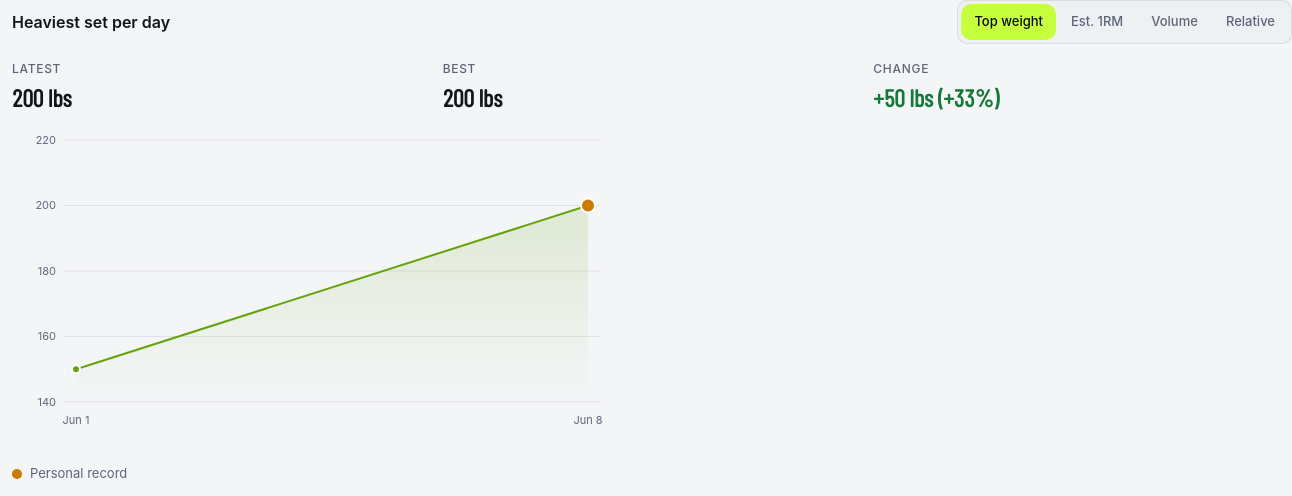
Scenario: relative strength › is offered once body weight is known, as a multiple of body weight
Click the button "Relative". click: (1250, 22)
box: top-left (1213, 4), bottom-right (1288, 40)
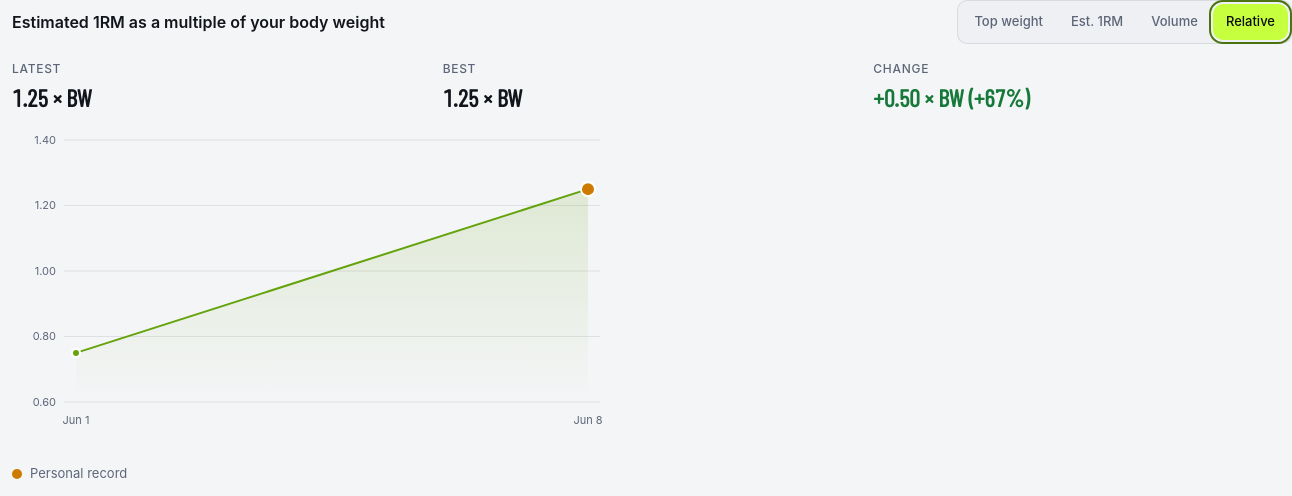
Expected: the heading "Estimated 1RM as a multiple of your body weight" is shown, top-left (12, 13), bottom-right (385, 31)
Expected: the text "1.25 × BW" below "Latest" is shown, top-left (12, 83), bottom-right (92, 112)
